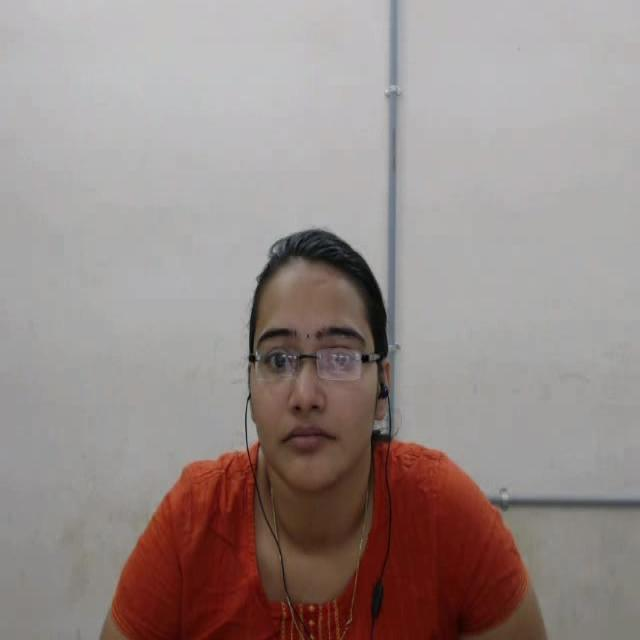Engaged: (203, 190, 447, 518)
